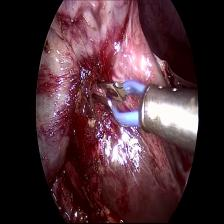Bipolar: (90, 76, 182, 132)
